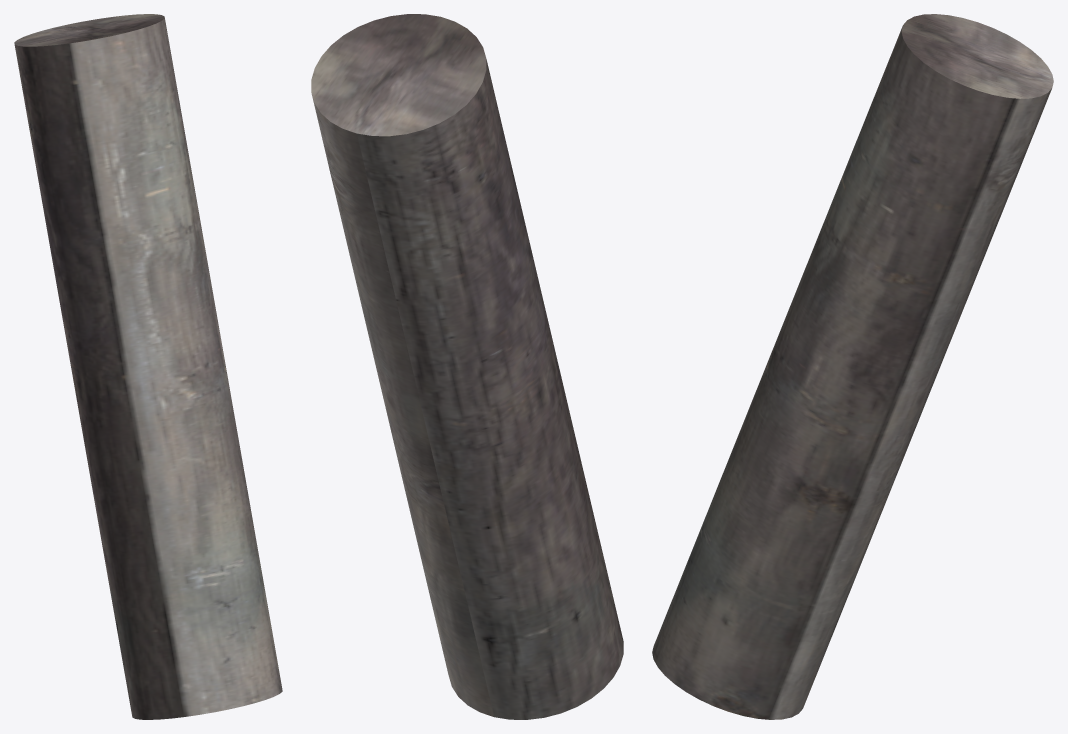
File: dungeonTorchBig.fbx
3 renders of one model, left to right at view 1: azimuth 30°, elevation 25°; view 2: azimuth 150°, elevation 25°; view 3: azimuth 270°, elevation 25°, orthographic. The views are drawn at different scales.
Parts seen in each view (by area): view 1: torchBig; view 2: torchBig; view 3: torchBig.
Boxes of the visible parts, <box> form: torchBig: <box>14,14,282,719</box>; torchBig: <box>311,14,623,719</box>; torchBig: <box>652,14,1053,719</box>.
Size of the model in its own units: 100 by 457 by 248.
